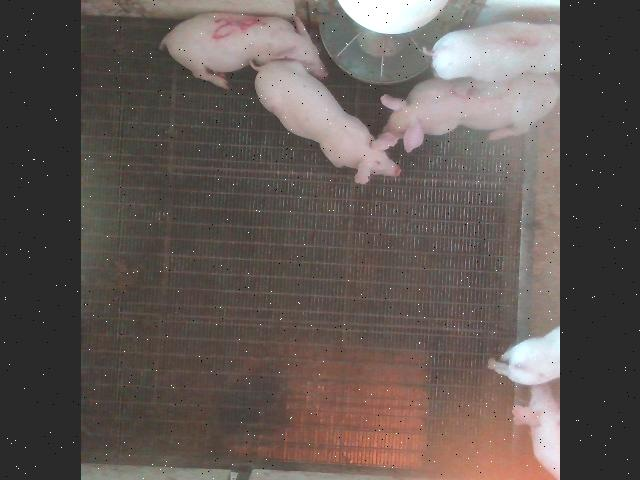pig-1: (422, 20, 559, 80)
pig-3: (380, 74, 558, 152)
pig-5: (160, 14, 326, 89)
